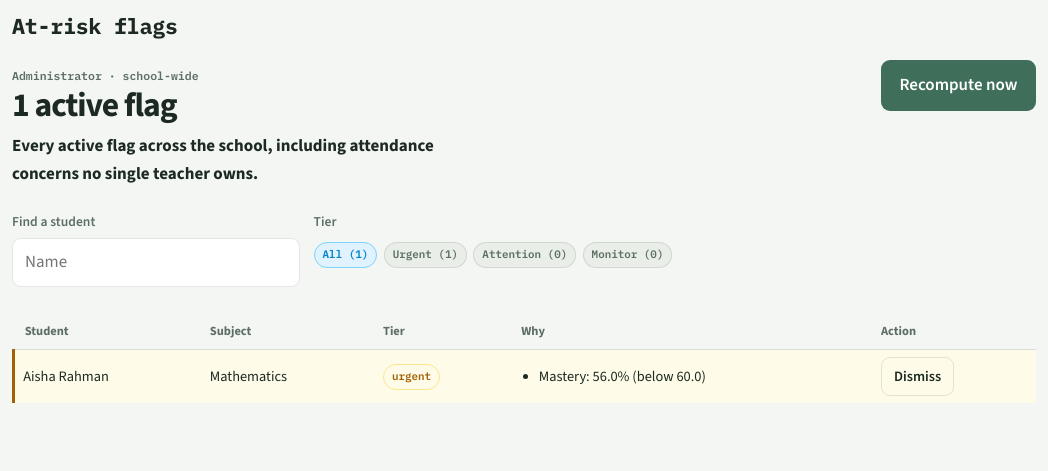
Scenario: AdminAtRiskPage › reports a recompute failure without losing the current list
The image size is (1048, 471).
Expected: the text "Aisha Rahman" is shown, [14, 350, 199, 403]
Click the button "Recompute now". click: (958, 86)
box: [881, 60, 1036, 111]
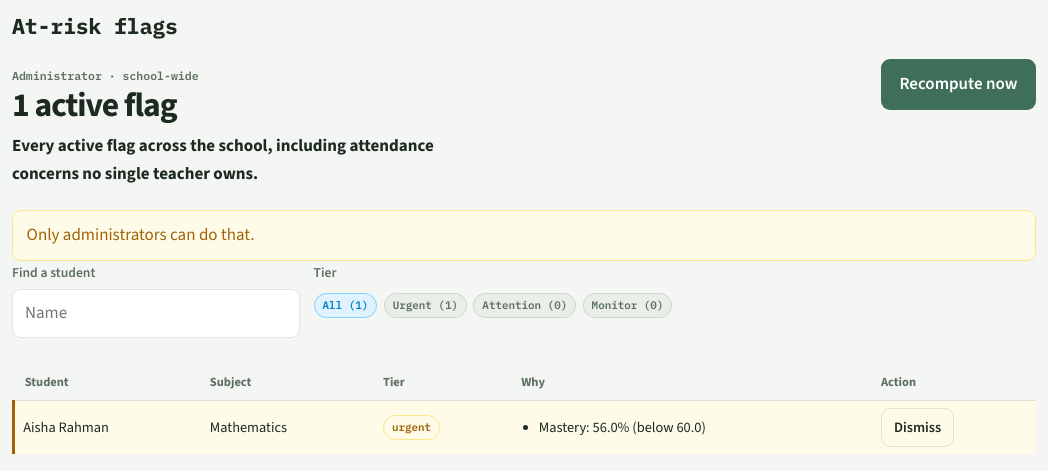
Expected: the text "Aisha Rahman" is shown, [14, 401, 199, 454]
Expected: the message reads "Only administrators can do that.", [27, 223, 254, 246]
